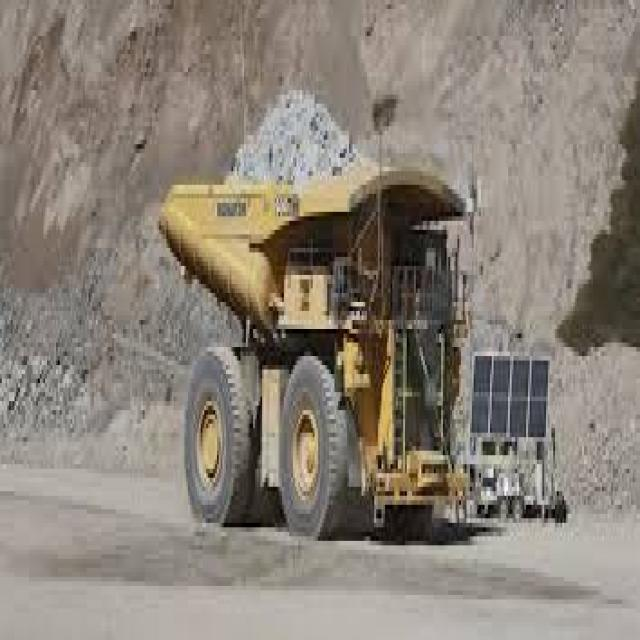dump_truck: (152, 109, 474, 546)
